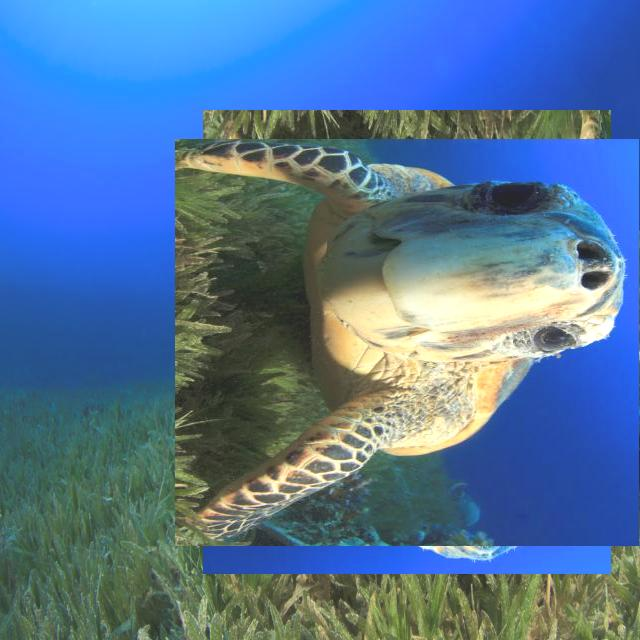Sea turtle: (189, 124, 625, 560)
